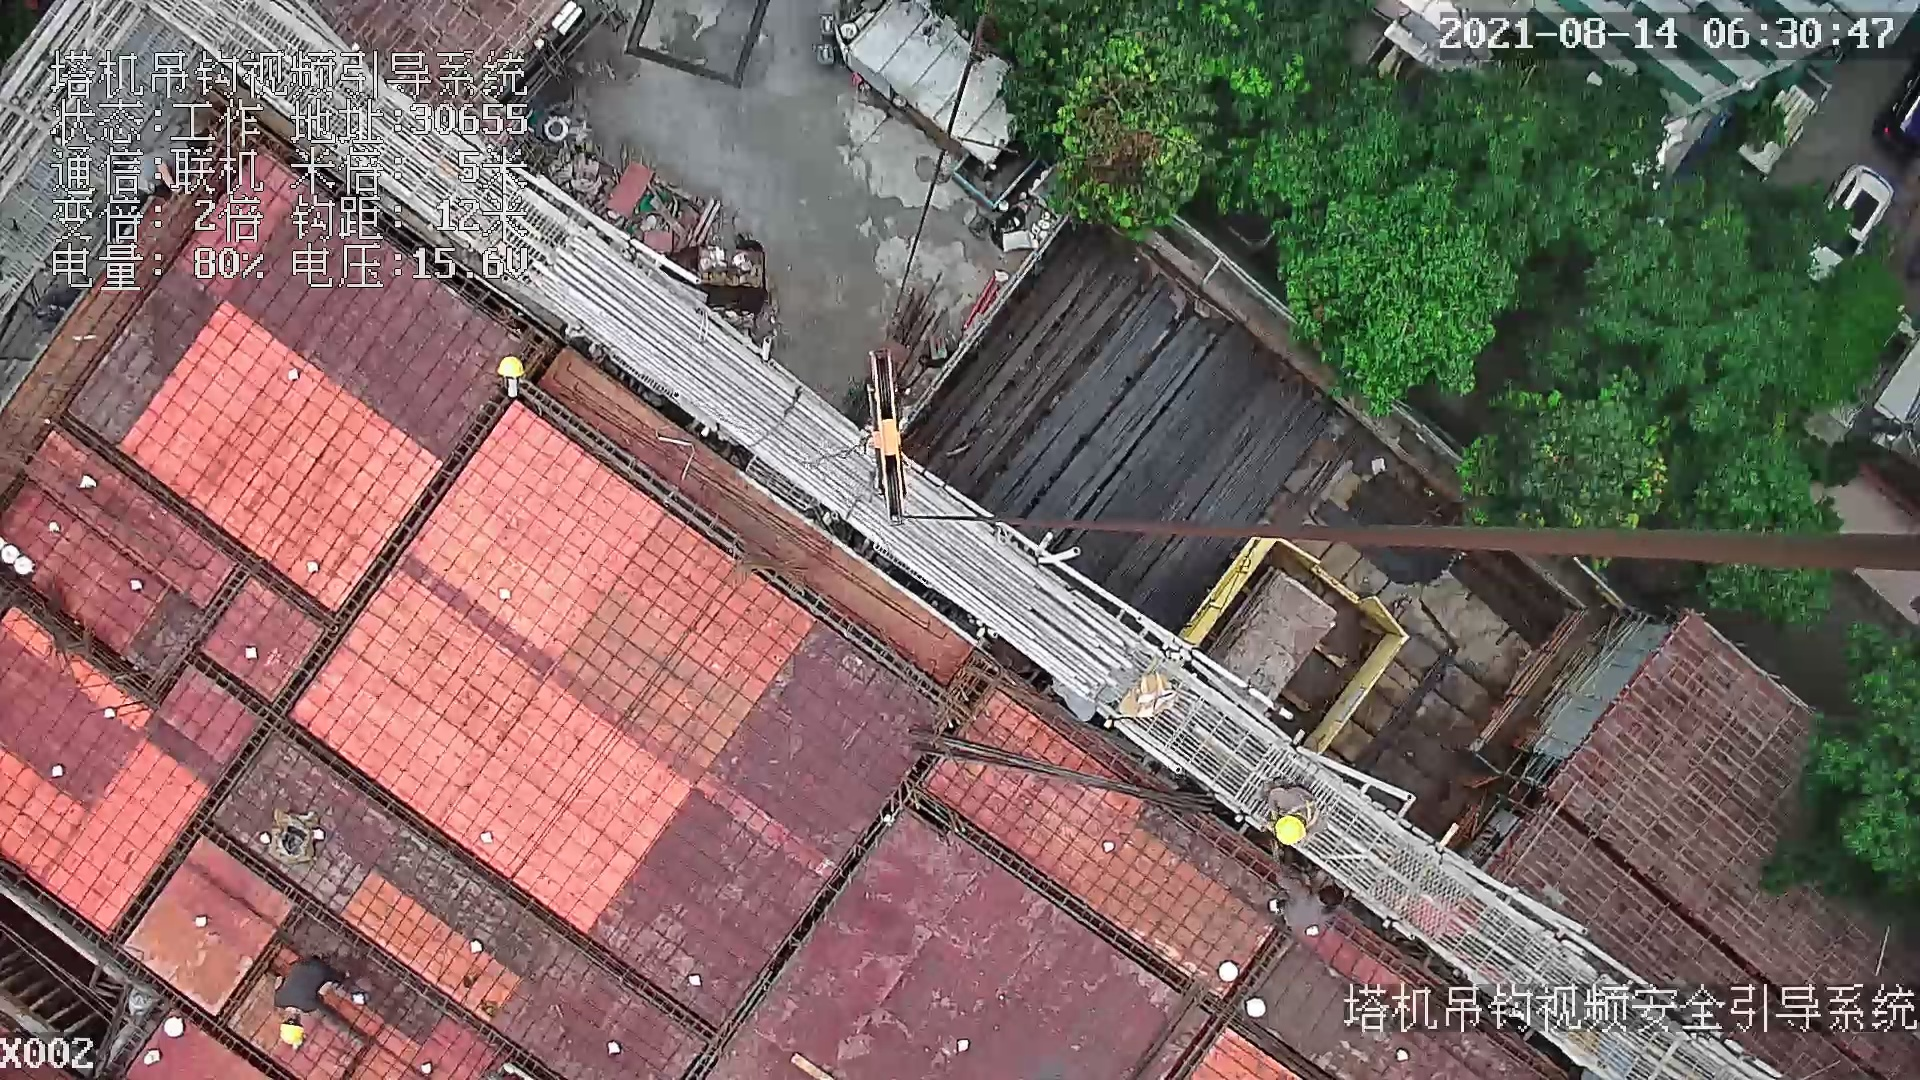helmet: (1271, 814, 1312, 847), (494, 354, 528, 378), (278, 1023, 307, 1046)
hook: (856, 345, 910, 528)
person: (270, 955, 355, 1044), (1255, 781, 1328, 851)
rebar: (937, 230, 1326, 599)
